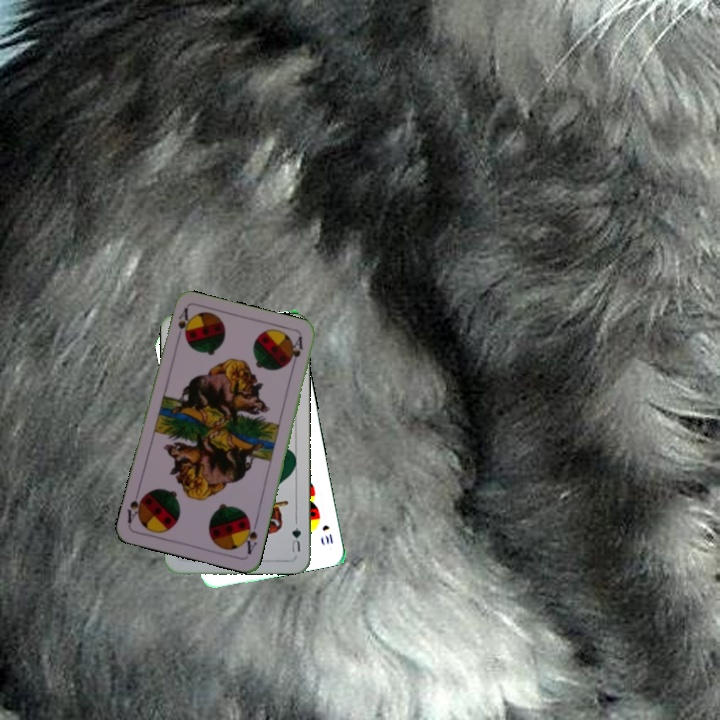GU: (288, 522, 303, 555)
S10: (318, 521, 336, 547)
SA: (239, 517, 260, 557), (172, 305, 192, 345)
